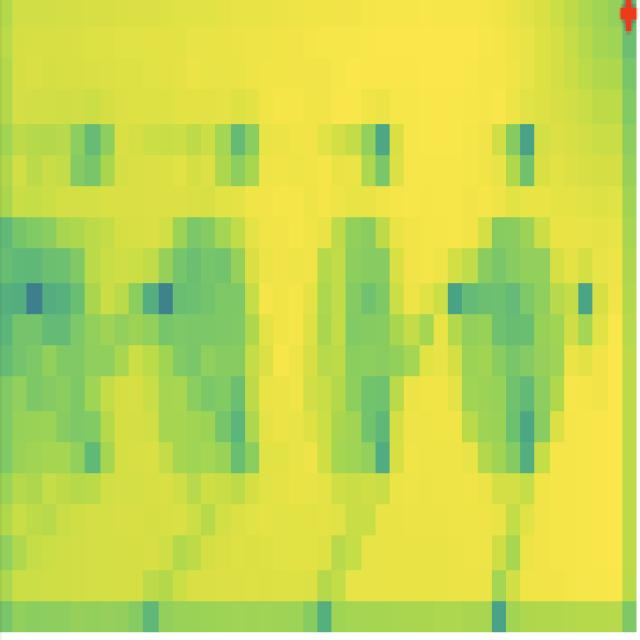Concrete: (134, 196, 274, 500)
Glass: (2, 190, 124, 515)
Metal: (307, 194, 421, 499)
Wood: (448, 194, 566, 514)
